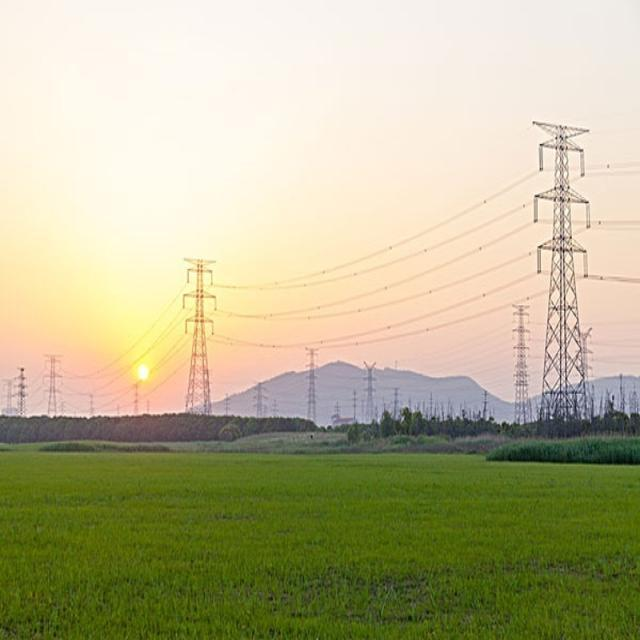non-critical vegetation: (522, 97, 602, 441), (178, 246, 234, 407)
